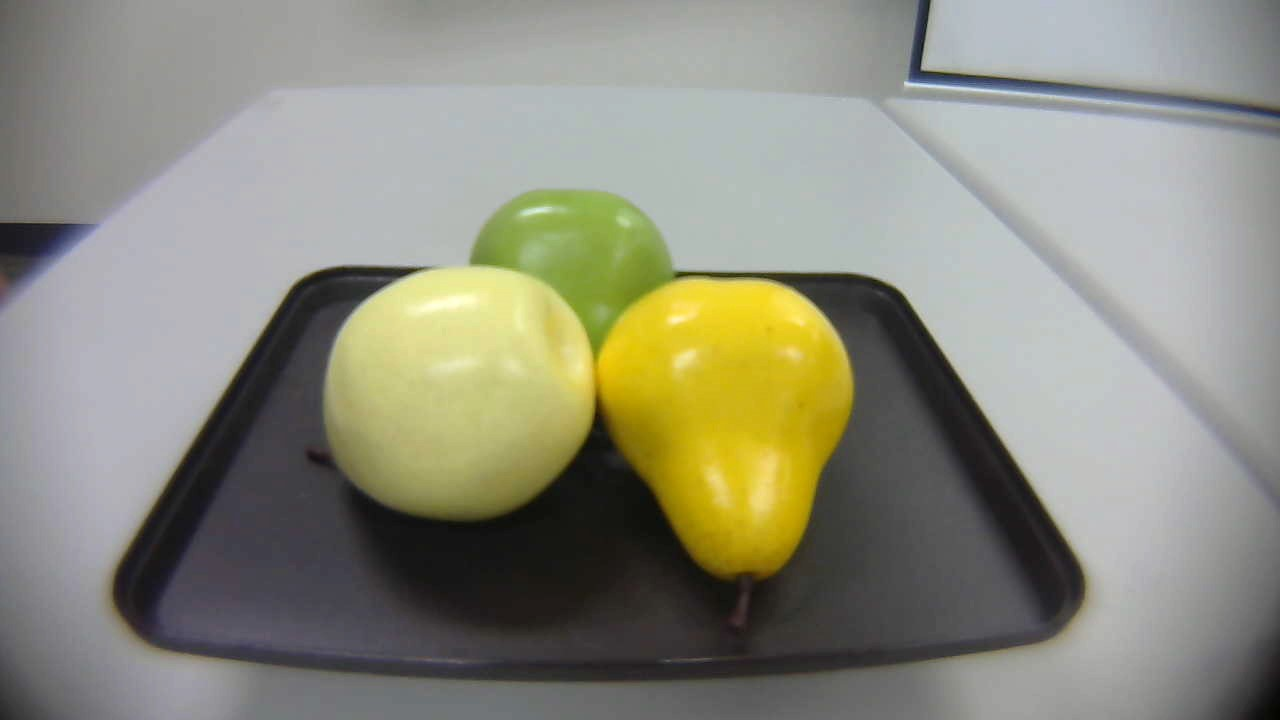green pear: (457, 171, 689, 351)
western pear: (283, 256, 610, 538)
yellow pear: (599, 272, 859, 638)
